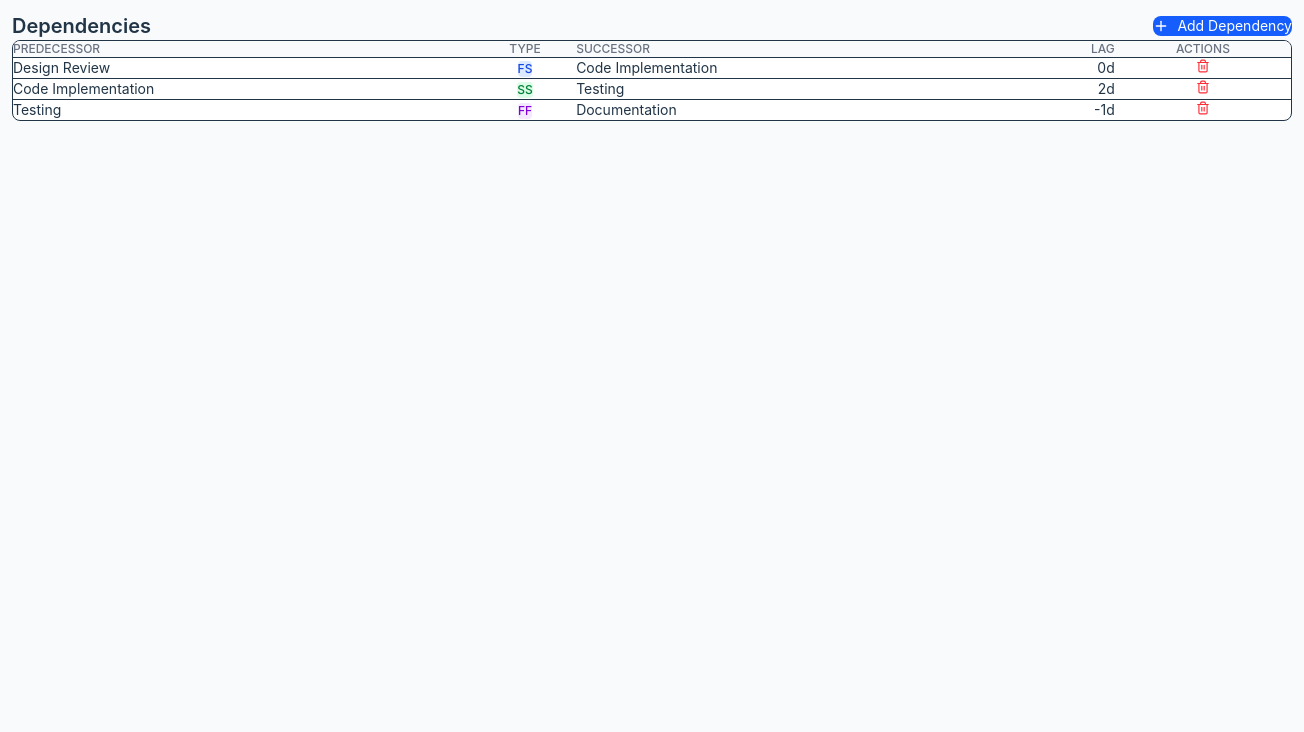
Test: DependencyList › shows success toast after successful delete
Click the button named "Delete dependency" in the row of "Design Review" at (1203, 66), box [1196,59,1210,73]
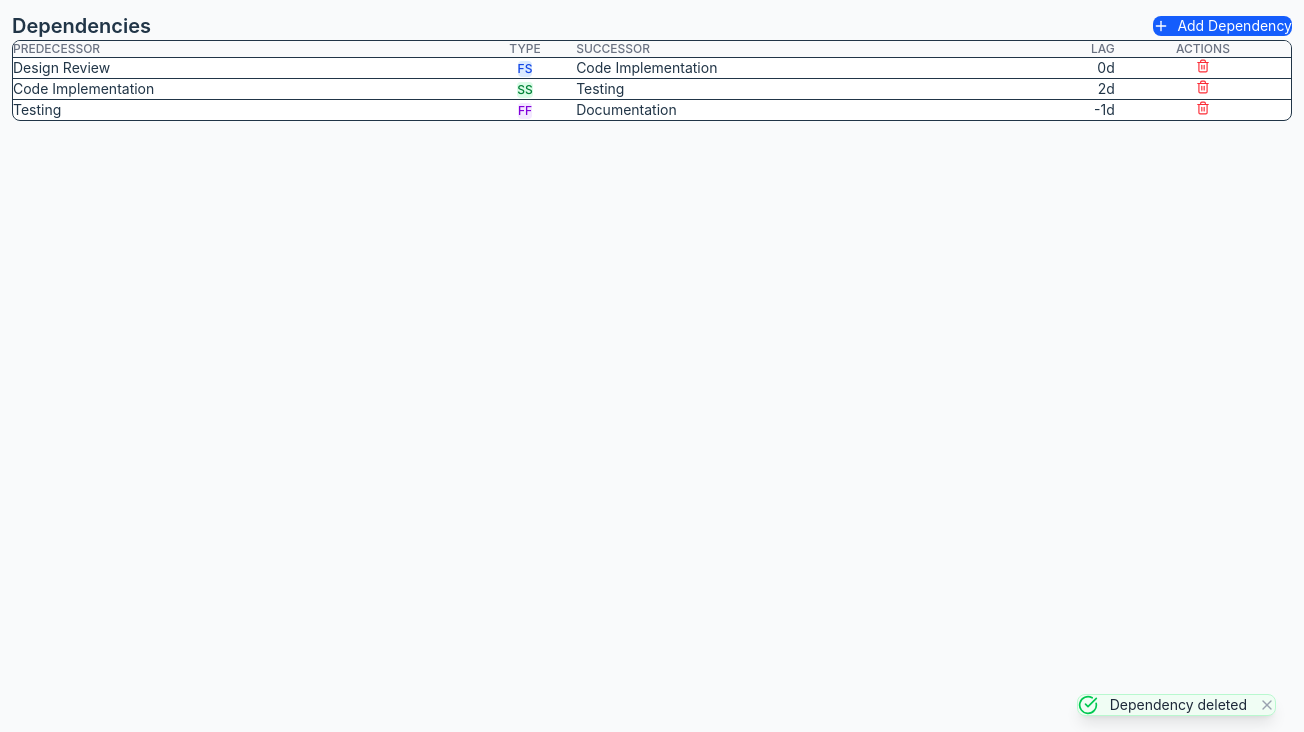
Check: the text "Dependency deleted" is shown, box [1110,695,1247,715]
